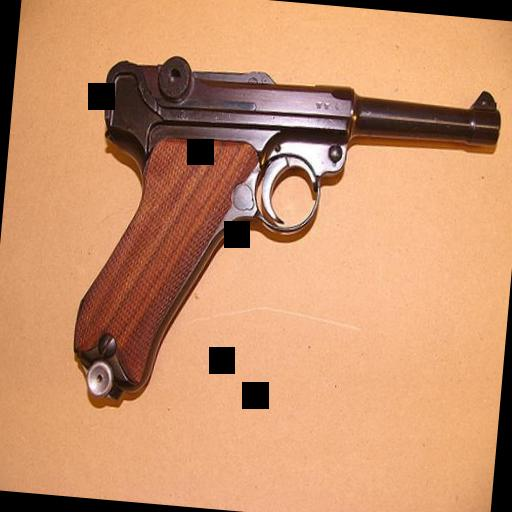Handgun: (65, 46, 504, 428)
